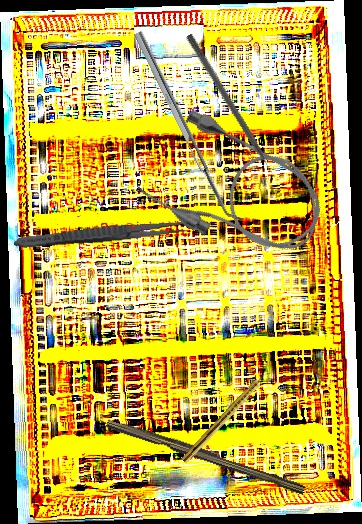Cannula: (131, 101, 340, 280)
Dressing Forceps: (13, 216, 192, 252)
Handpiece: (180, 368, 273, 466)
Pusher: (184, 33, 280, 184)
Scalpel Handle: (104, 415, 308, 495)
Spatula Surgical: (133, 27, 244, 227)
